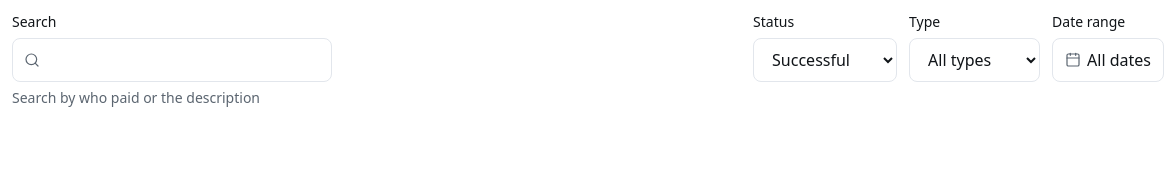
Test: TransactionFilters › hides the search field's clear button until there is text, then clears just the search on click
In the field labelled "Search": x=172, y=60 [12,38,332,82], type "Ade"
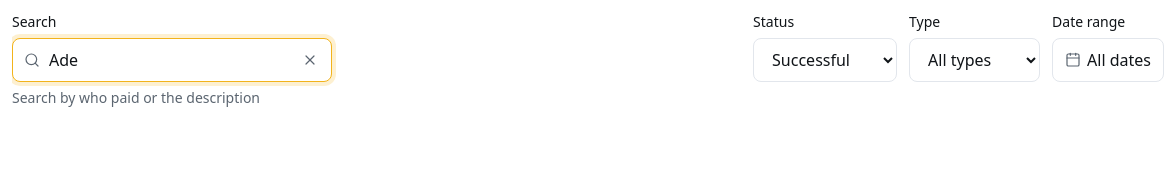
Click the button named "Clear search": x=310, y=60 [288,38,332,82]
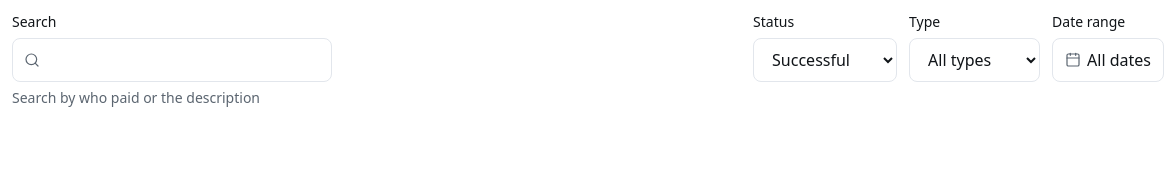
Result: the field labelled "Search" is empty at [12,38,332,82]
